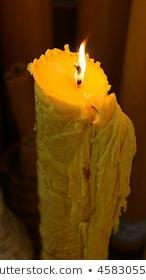fire: (75, 37, 89, 83)
